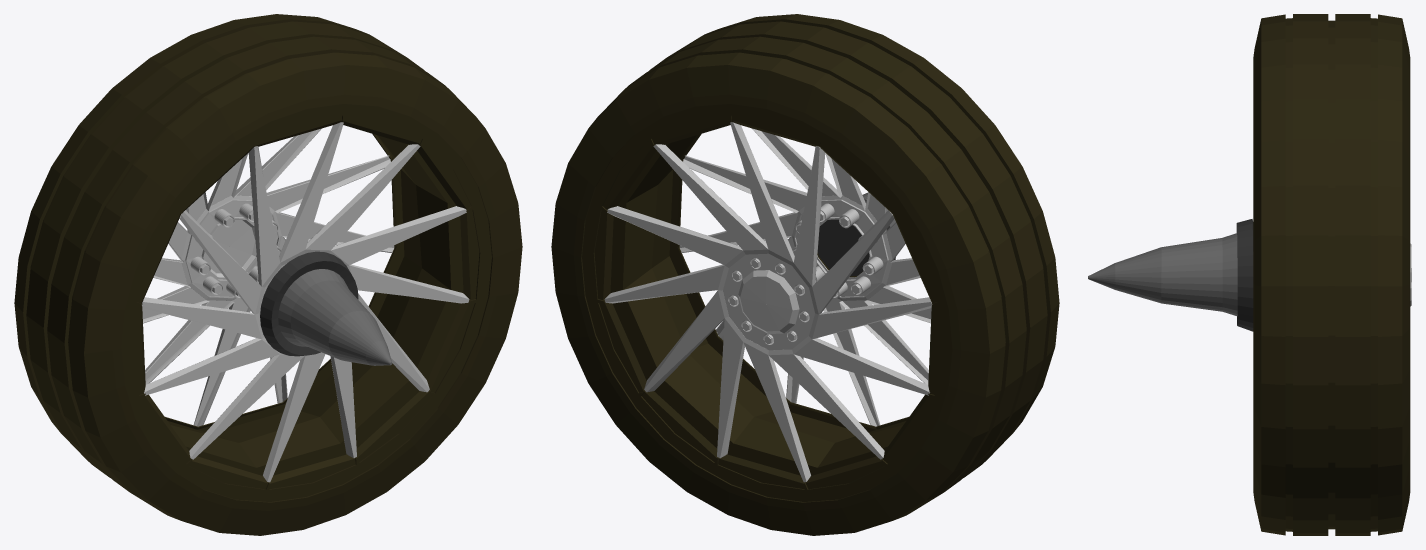
The model's file is Wheel.fbx.
3 renders of one model, left to right at view 1: azimuth 30°, elevation 25°; view 2: azimuth 150°, elevation 25°; view 3: azimuth 270°, elevation 25°, orthographic.
Parts seen in each view (by area): view 1: Cylinder.028; view 2: Cylinder.028; view 3: Cylinder.028.
Boxes of the visible parts, left/top/right/bottom form: Cylinder.028: left=14, top=14, right=522, bottom=535; Cylinder.028: left=551, top=14, right=1059, bottom=535; Cylinder.028: left=1088, top=14, right=1411, bottom=535.
Bounding box in the file's own units: 149 × 149 × 92.12.
